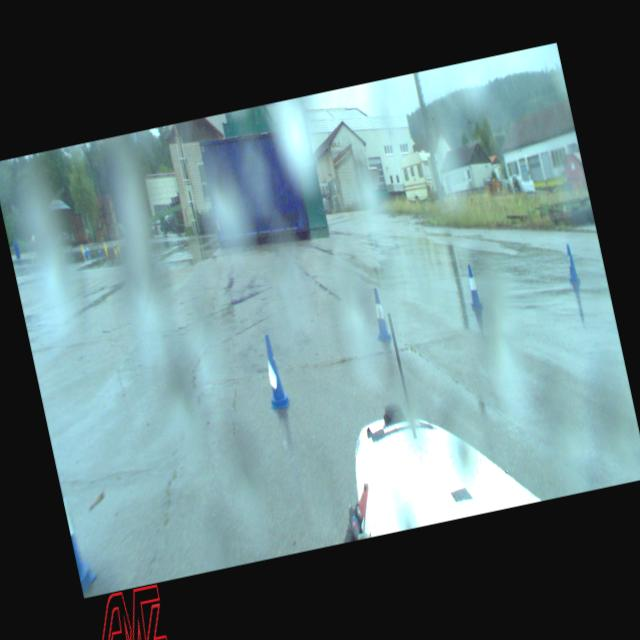blue_cone: (61, 484, 100, 593), (256, 332, 291, 410), (366, 286, 392, 342), (463, 263, 483, 309), (562, 242, 580, 284)
